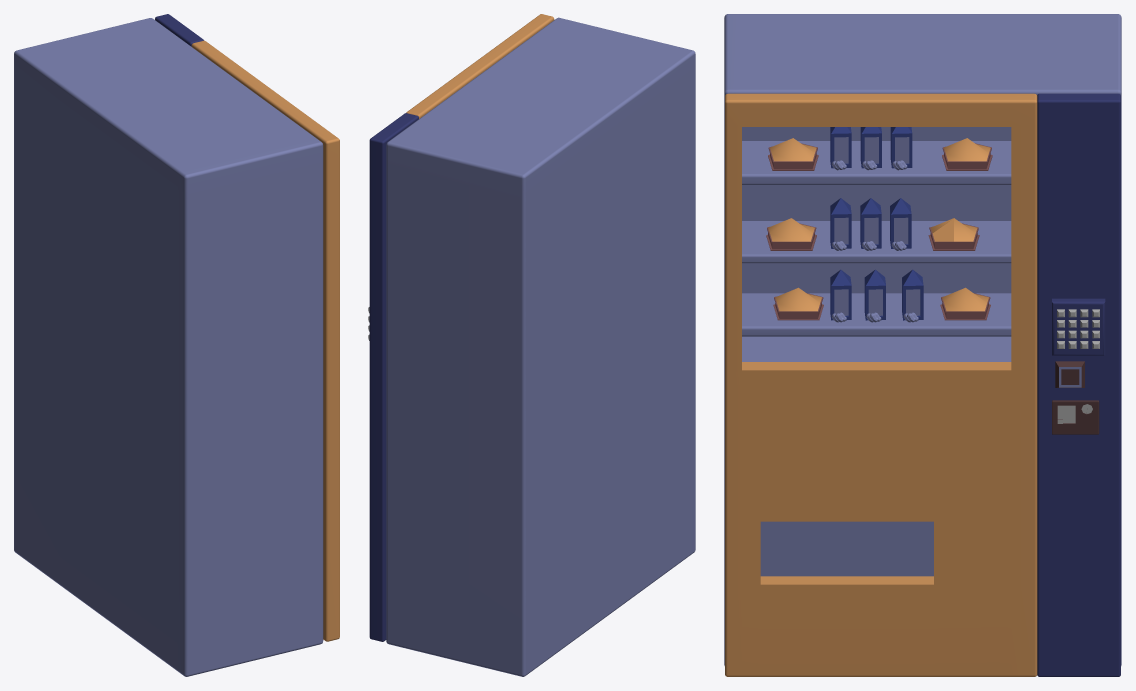
Rendered from MaquinaExpendedora.fbx.
3 renders of one model, left to right at view 1: azimuth 30°, elevation 25°; view 2: azimuth 150°, elevation 25°; view 3: azimuth 270°, elevation 25°, orthographic. The views are drawn at different scales.
Visible parts, largest first — view 1: pCube29; view 2: pCube29; view 3: pCube29.
Boxes of the visible parts, box(x1,y1,x2,y2) form: pCube29: box(14, 14, 339, 676); pCube29: box(368, 14, 695, 676); pCube29: box(724, 14, 1121, 676).
Bounding box in the file's own units: 94.23 × 273 × 170.
